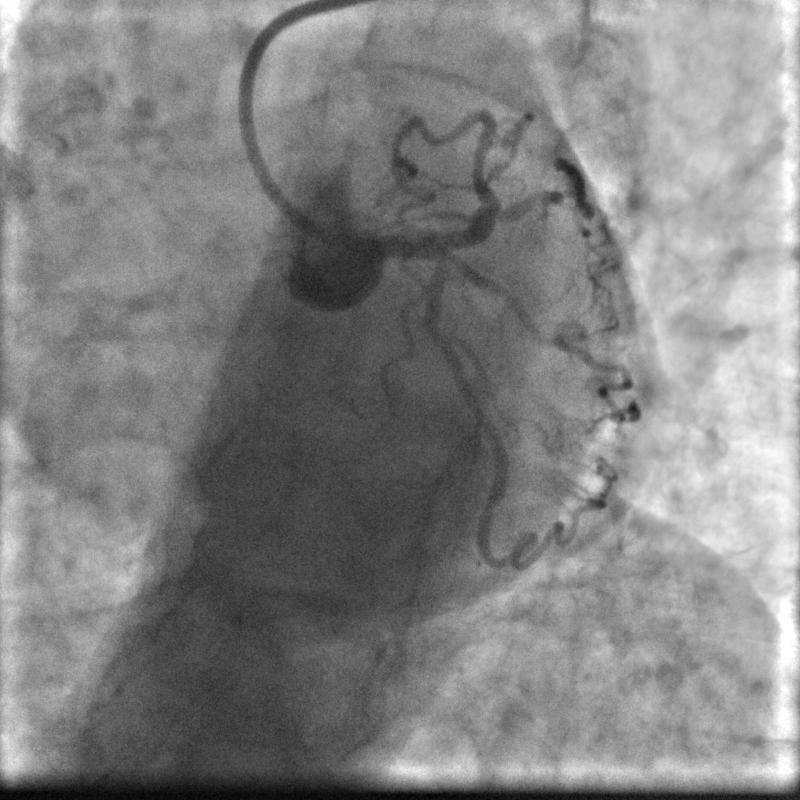Stenosis: (424, 317, 451, 349)
